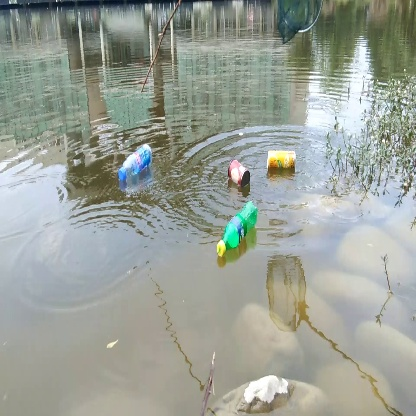bottle: (216, 200, 259, 260), (116, 142, 157, 181), (226, 157, 253, 191), (264, 146, 300, 169)
